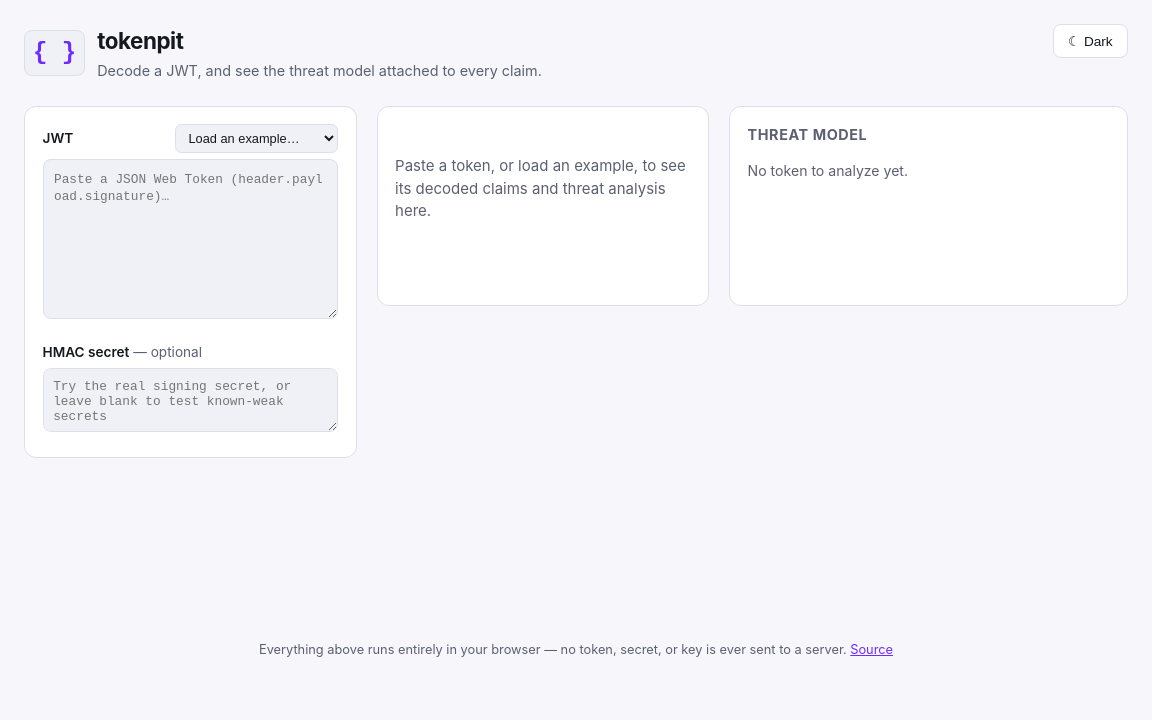
Test: App › shows a structural error state for an invalid token
The width and height of the screenshot is (1152, 720).
Step 1. Type "not-a-jwt" into the text box labelled "JWT" → coordinates (190, 239), box left=43, top=159, right=338, bottom=319
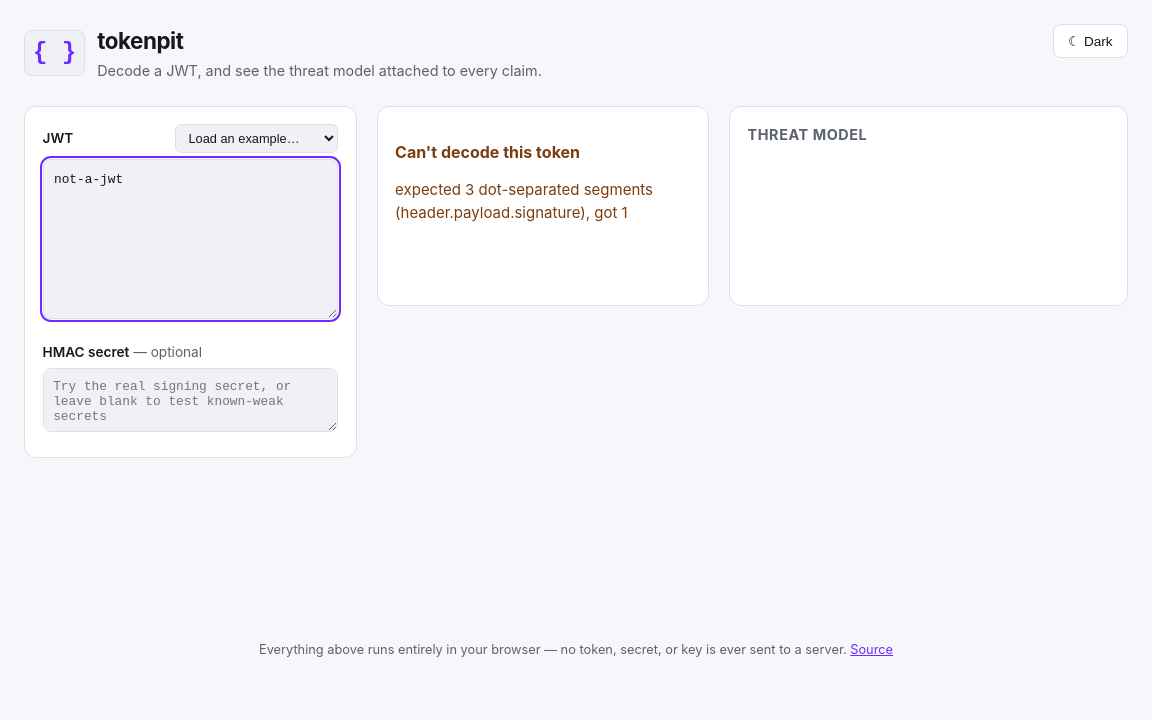
Check: the message shows "Can't decode this token", box left=395, top=142, right=580, bottom=162
